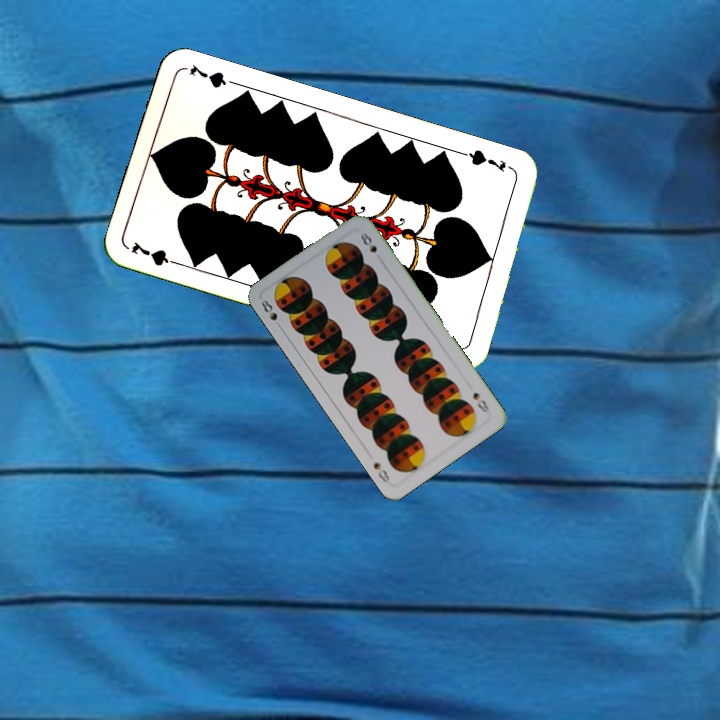G7: (127, 237, 185, 269), (459, 145, 509, 175)
S8: (255, 295, 285, 332), (469, 388, 492, 415)
